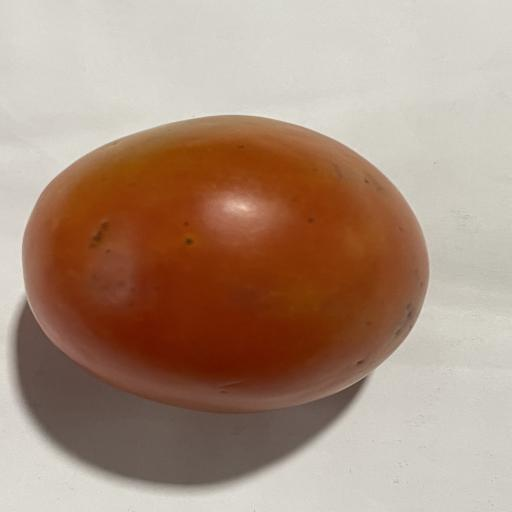ripe: (22, 116, 428, 413)
